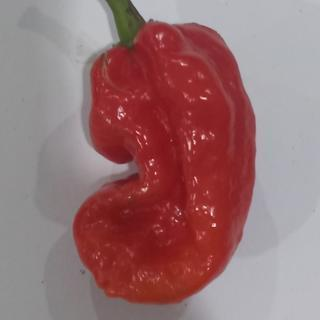Grade-A: (69, 14, 266, 306)
